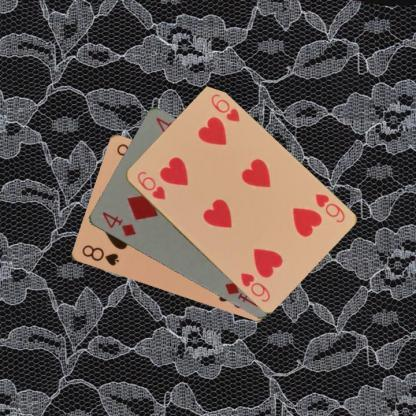4d: (99, 209, 137, 238)
6h: (134, 167, 168, 201), (312, 190, 346, 224)
8s: (79, 243, 120, 268)
